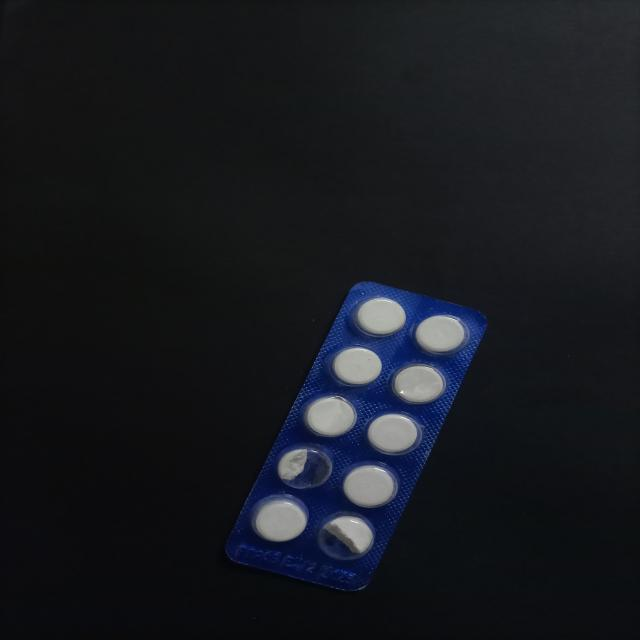defect: (314, 511, 378, 562), (274, 441, 335, 491)
